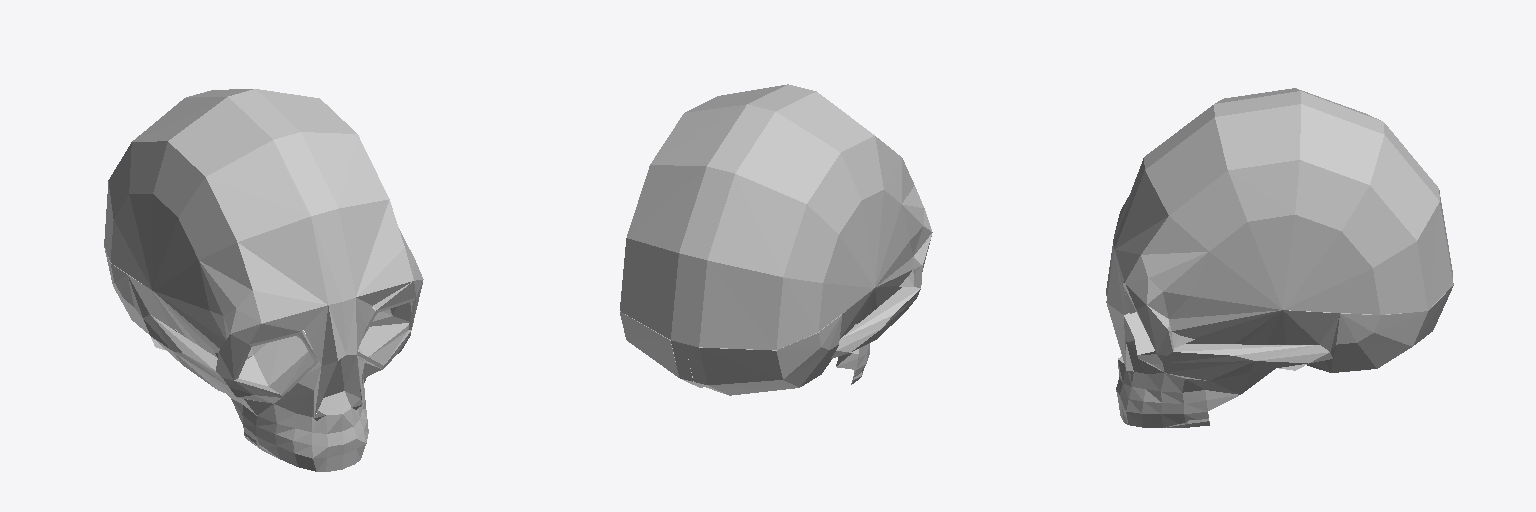
Rendered from head.obj.
The picture shows the model from 3 angles: view 1: azimuth 30°, elevation 25°; view 2: azimuth 150°, elevation 25°; view 3: azimuth 270°, elevation 25°; orthographic projection.
Parts seen in each view (by area): view 1: SKULL_HE01_SKULL_HE01_WHITE_BONE; view 2: SKULL_HE01_SKULL_HE01_WHITE_BONE; view 3: SKULL_HE01_SKULL_HE01_WHITE_BONE.
Boxes of the visible parts, x1,y1,x2,y2 form: SKULL_HE01_SKULL_HE01_WHITE_BONE: [104, 89, 423, 471]; SKULL_HE01_SKULL_HE01_WHITE_BONE: [620, 84, 932, 395]; SKULL_HE01_SKULL_HE01_WHITE_BONE: [1106, 88, 1453, 427].
Bounding box in the file's own units: 6.62 × 9.43 × 9.49.